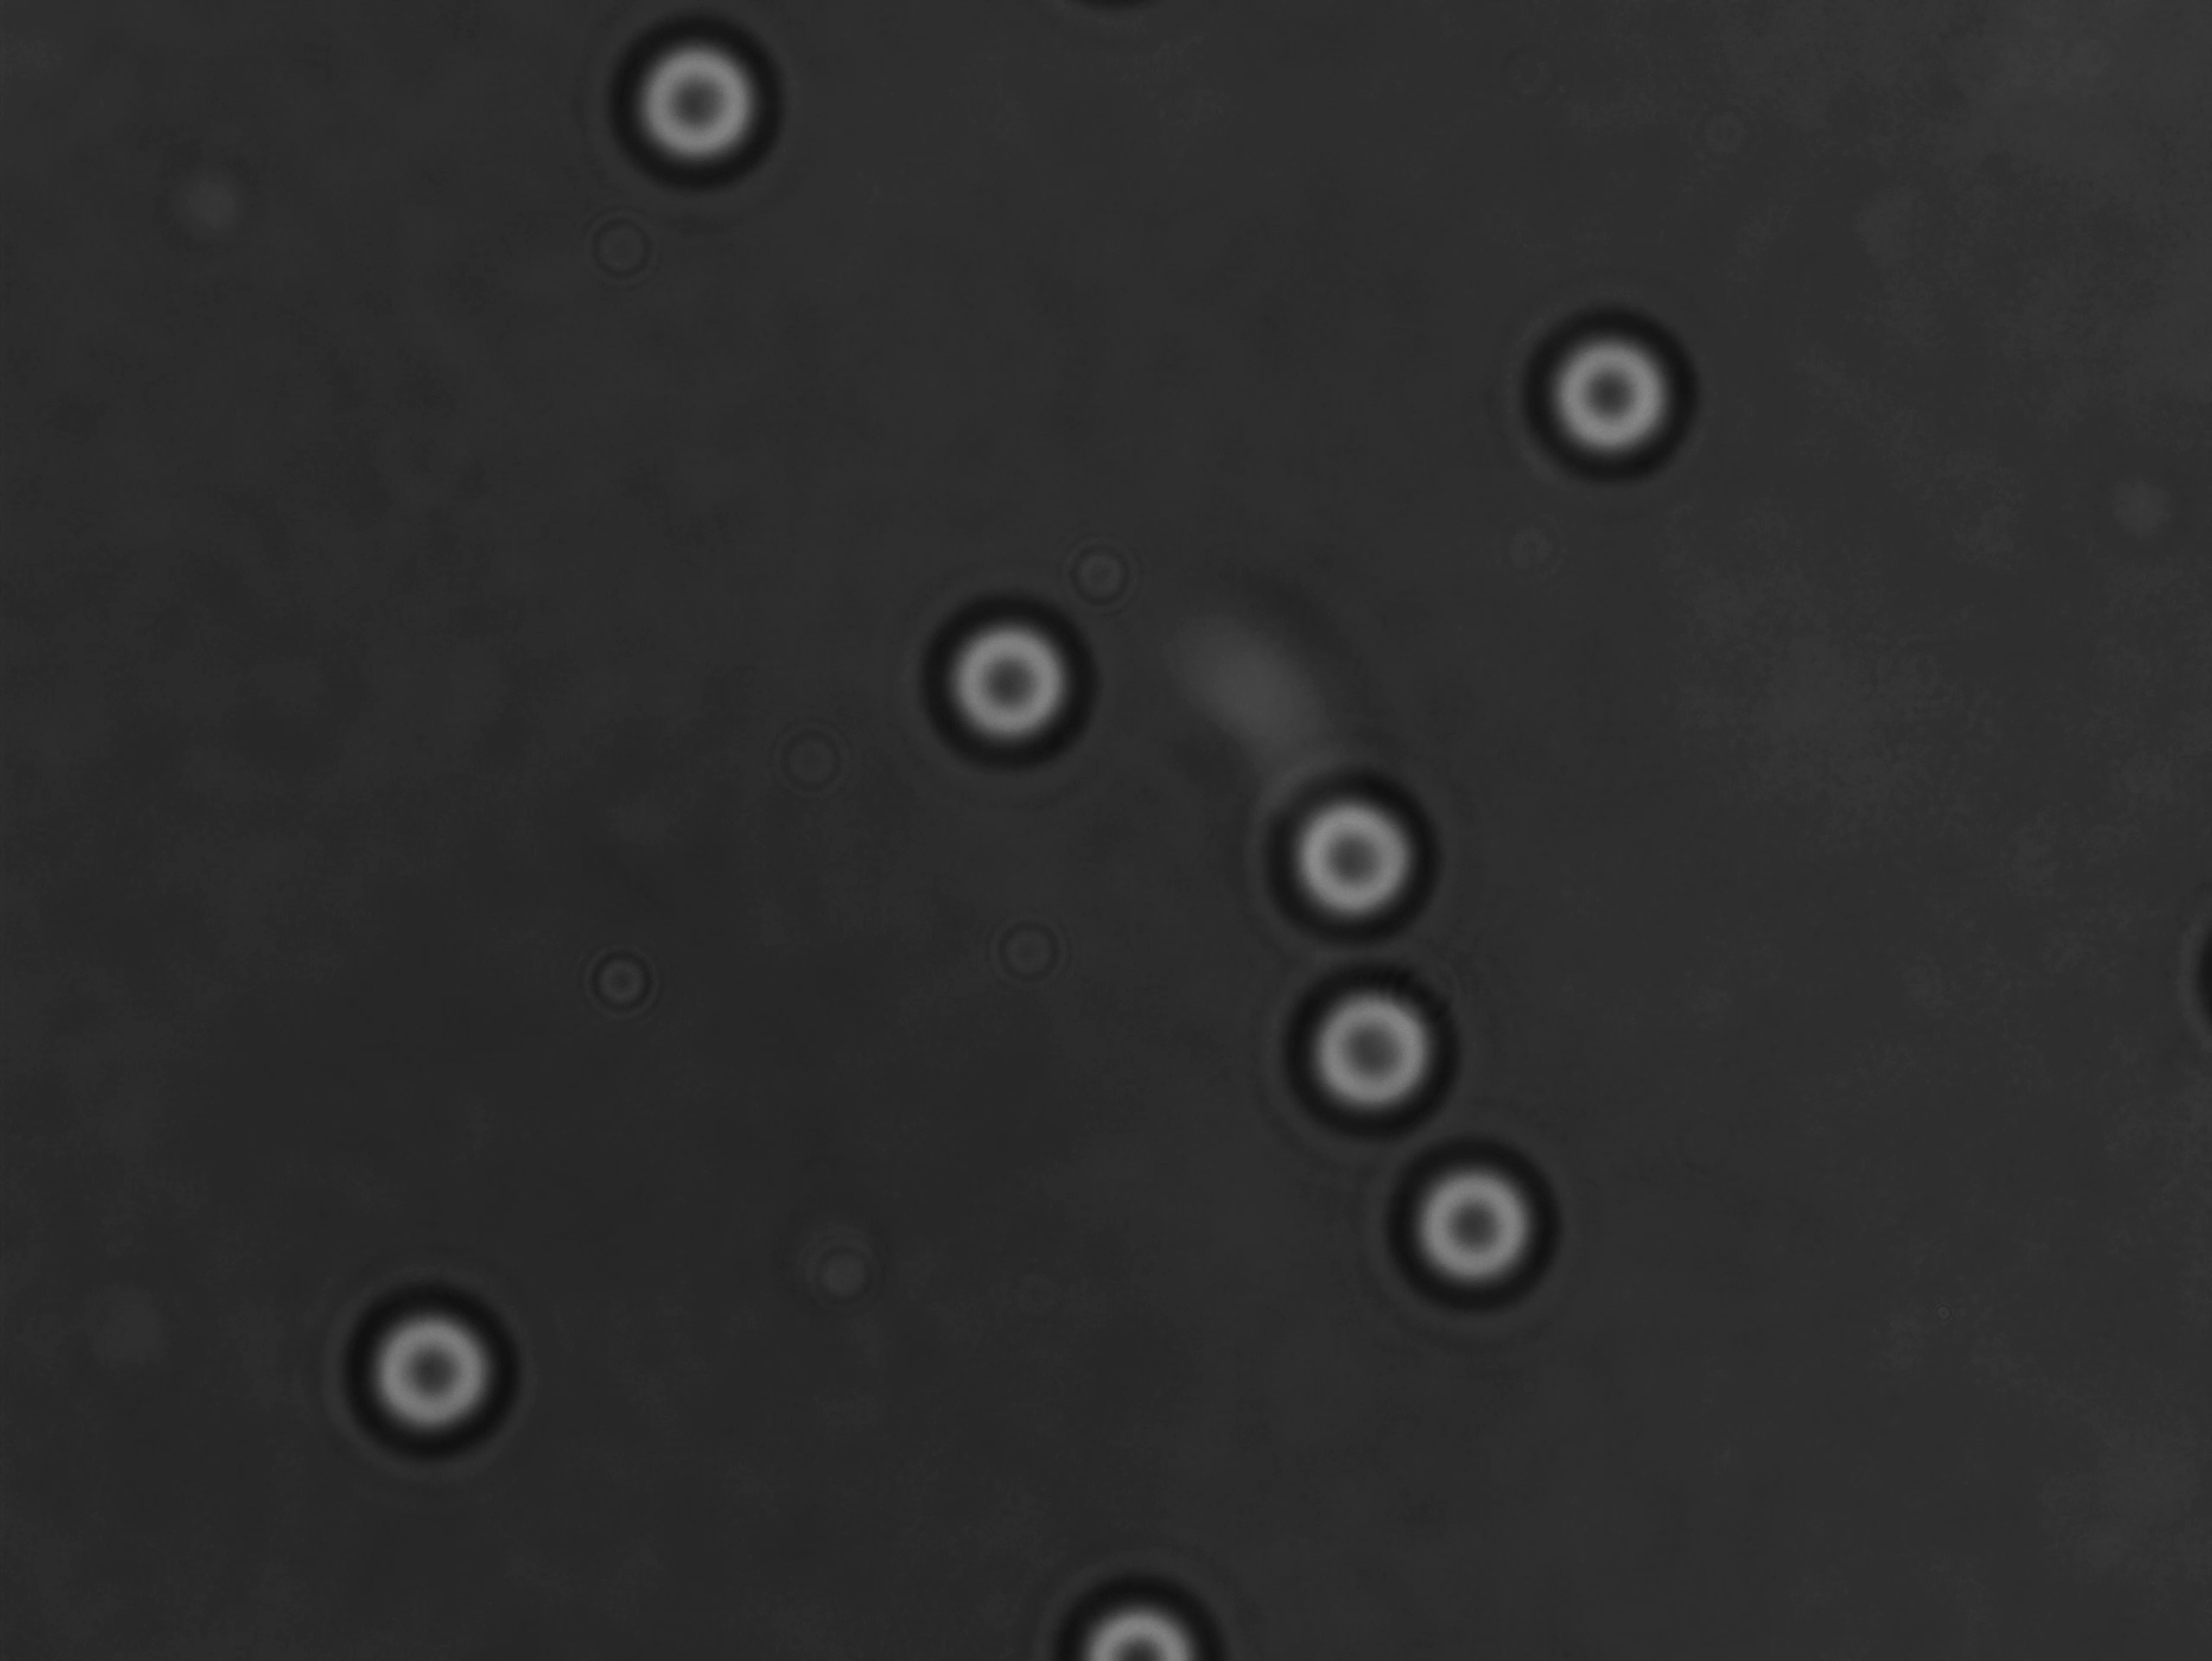depth:80: (1240, 740, 1472, 968), (328, 1261, 551, 1490), (1499, 291, 1724, 515), (1258, 944, 1474, 1150), (1364, 1122, 1580, 1328), (909, 578, 1123, 783)
